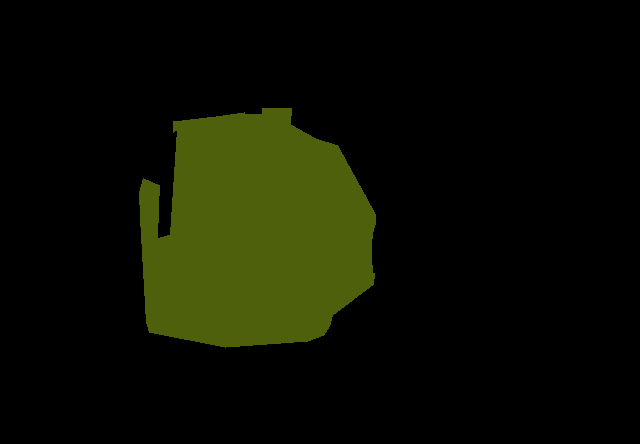Train: (139, 108, 375, 347)
